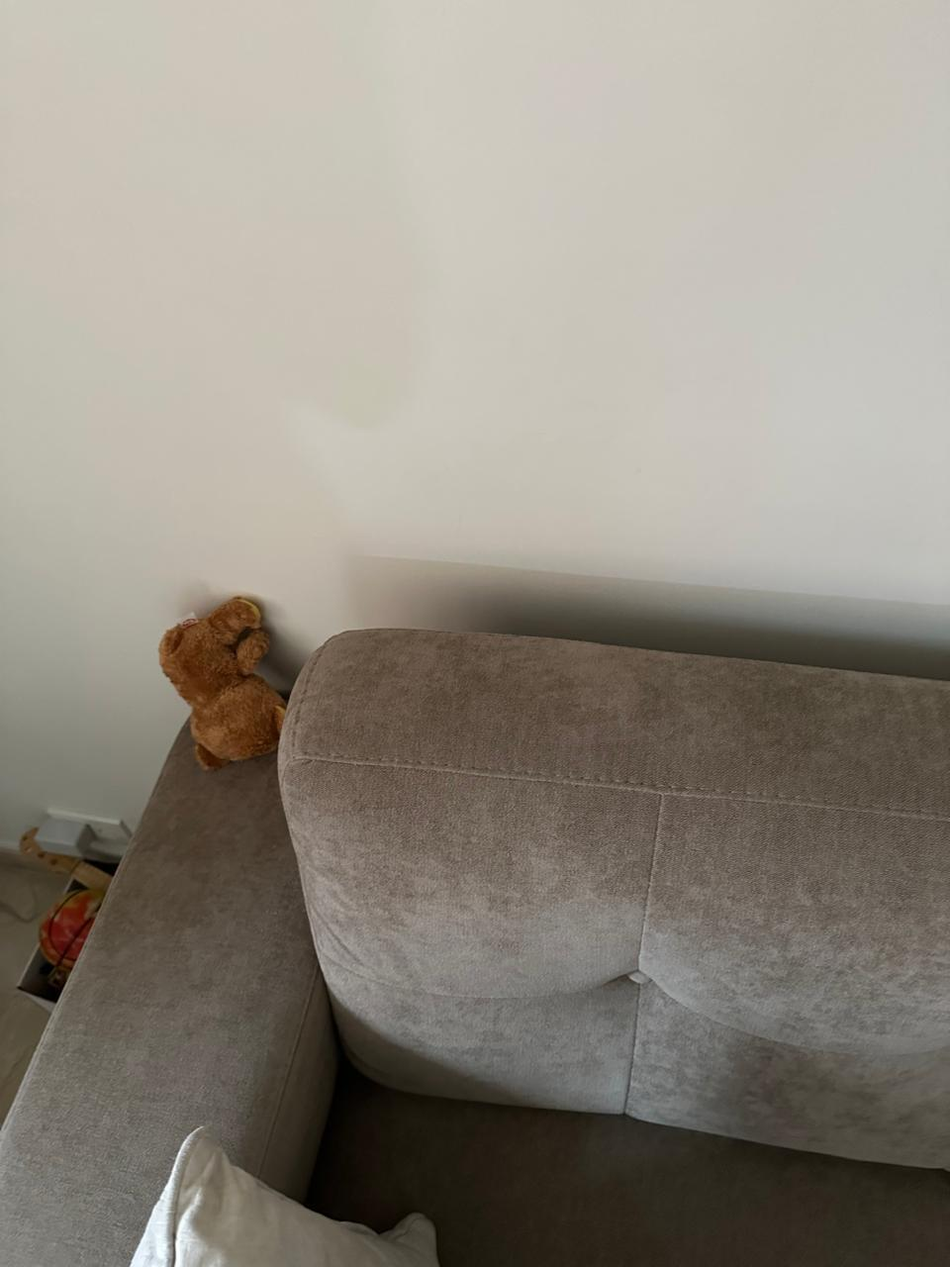peluche_sebastian: (156, 591, 294, 777)
